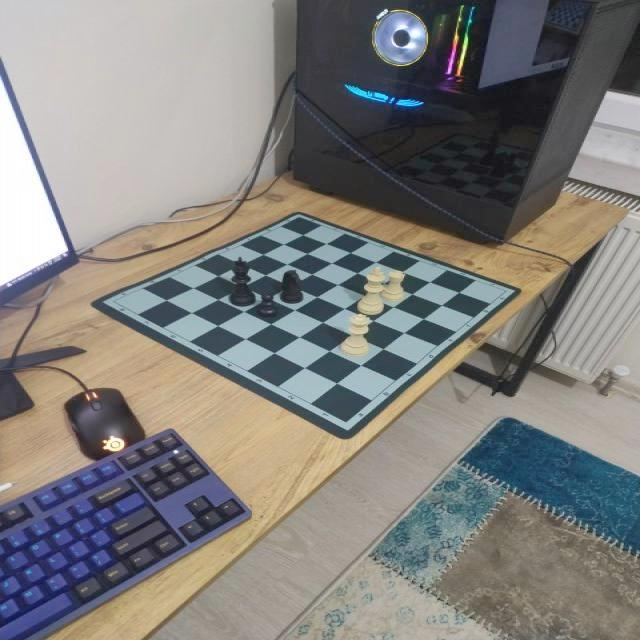chess-table-corners: (332, 414, 358, 432), (100, 296, 120, 309), (499, 287, 517, 296), (292, 213, 306, 224)
